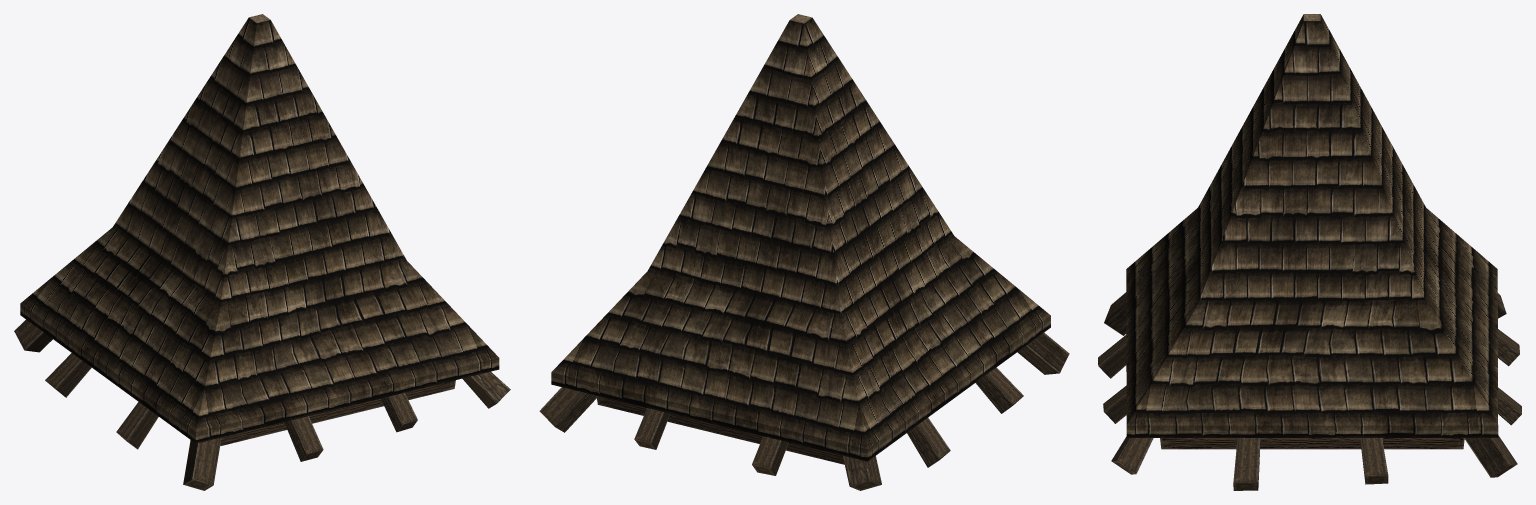
The model's file is Roof_6X6_03a.fbx.
The picture shows the model from 3 angles, left to right: view 1: azimuth 30°, elevation 25°; view 2: azimuth 150°, elevation 25°; view 3: azimuth 270°, elevation 25°; orthographic projection. The views are drawn at different scales.
Parts seen in each view (by area): view 1: Roof_6X6_03a; view 2: Roof_6X6_03a; view 3: Roof_6X6_03a.
Part boxes in pixels (x1,y1,x2,y2): Roof_6X6_03a: (14,14,510,490); Roof_6X6_03a: (539,14,1069,490); Roof_6X6_03a: (1098,14,1521,490).
Size of the model in its own units: 9.29 by 9.34 by 9.13.
